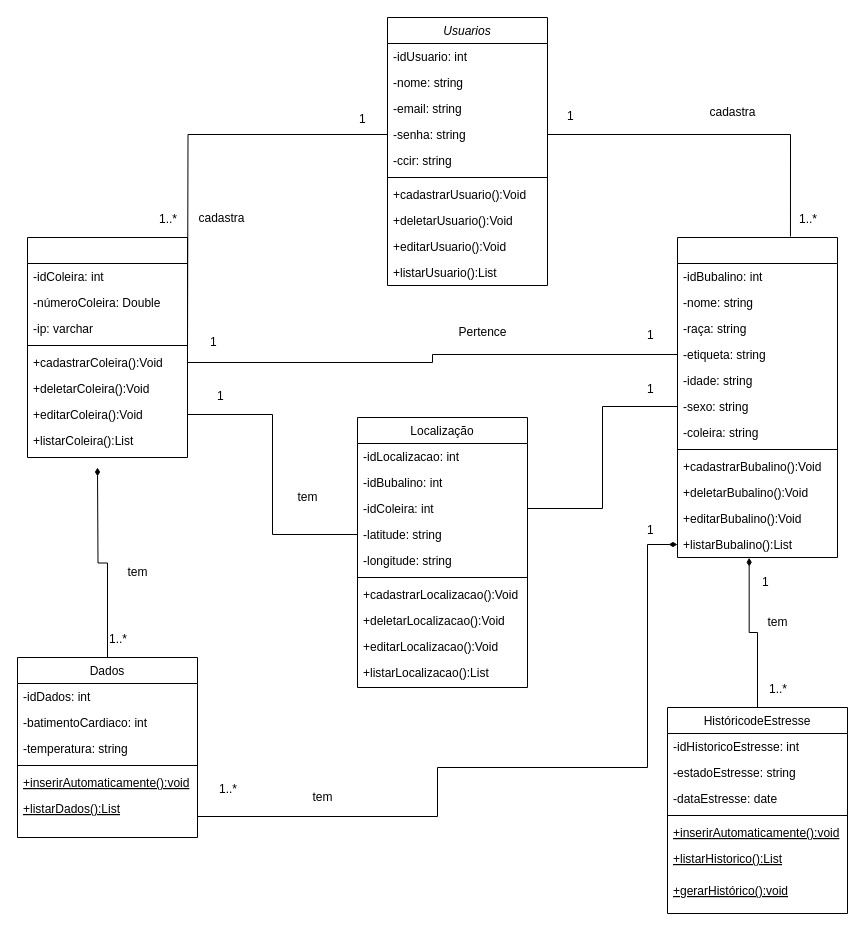
The diagram is 865 pixels wide and 931 high, and some of its shapes have lost their labels. The box of each missing label's shape, as (x1, y1, x2, y2) in pixels:
Bubalinos: (676, 236, 838, 558)
Coleiras: (26, 236, 188, 458)
